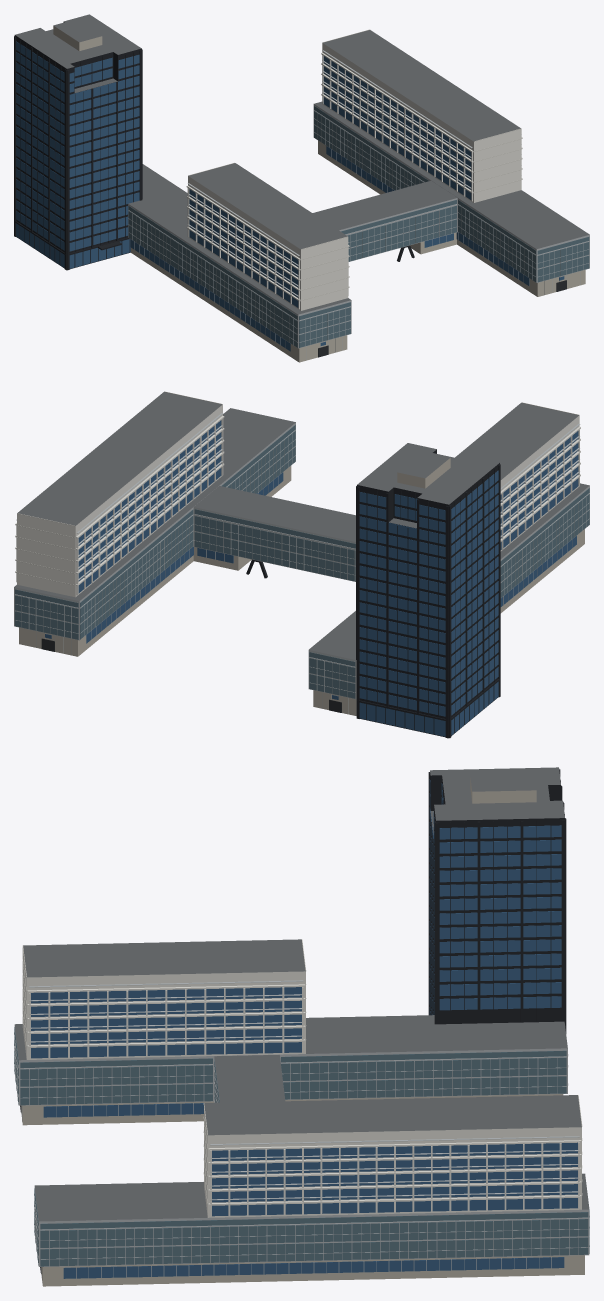
File: gebouw-parnas.glb
3 renders of one model, top to bottom at view 1: azimuth 30°, elevation 25°; view 2: azimuth 150°, elevation 25°; view 3: azimuth 270°, elevation 25°, orthographic. The views are drawn at different scales.
Visible parts, largest first — view 1: gebouw-parnas; view 2: gebouw-parnas; view 3: gebouw-parnas.
Part boxes in pixels (box(x1,y1,x2,y2)): gebouw-parnas: box(14, 14, 589, 362); gebouw-parnas: box(14, 391, 589, 738); gebouw-parnas: box(14, 767, 589, 1286).
Bounding box in the file's own units: 114 × 59.5 × 110.
